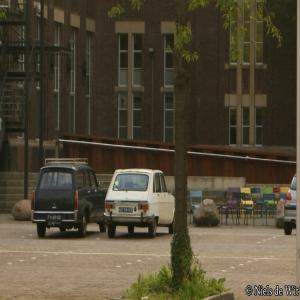Vehicle-registration-plate: (119, 208, 133, 214)
